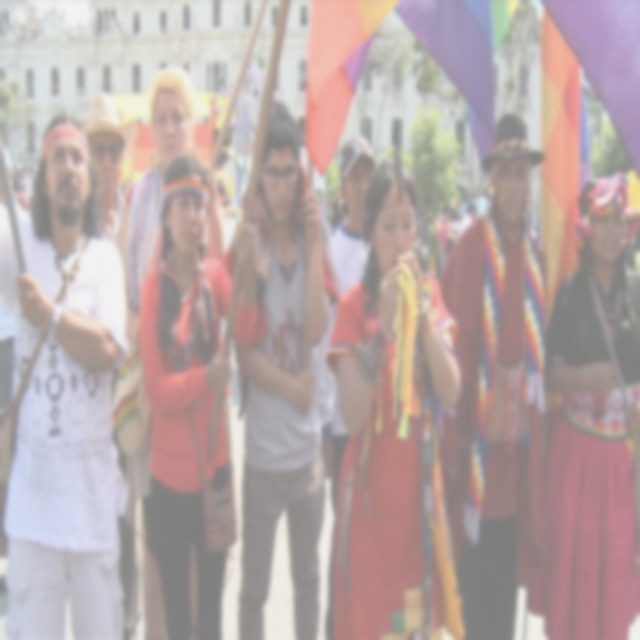pessoa: (108, 56, 234, 640), (0, 108, 131, 640), (326, 160, 466, 638), (433, 110, 549, 640), (136, 152, 260, 640), (225, 96, 333, 640), (524, 172, 640, 640), (77, 95, 139, 640), (316, 134, 380, 639), (0, 144, 33, 418), (326, 180, 346, 238), (438, 204, 450, 274), (222, 198, 236, 255), (458, 202, 480, 238), (420, 203, 432, 246), (214, 149, 232, 174), (451, 206, 464, 239), (230, 191, 240, 227), (216, 176, 226, 203), (18, 170, 28, 193)
